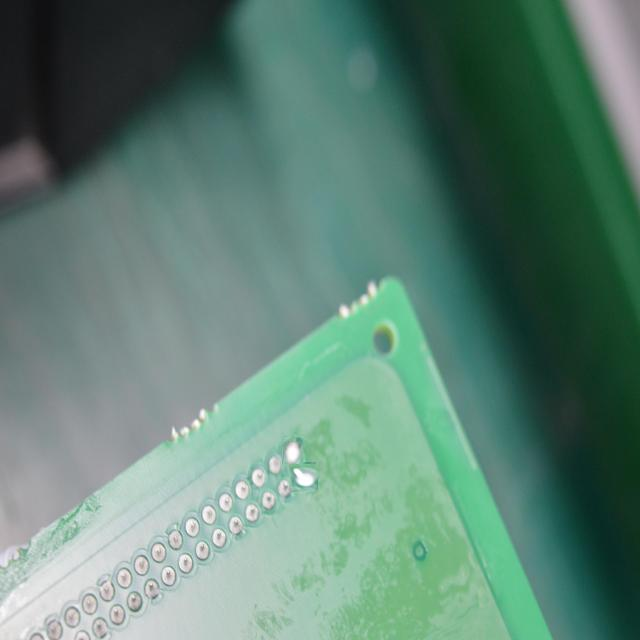slug: (289, 464, 317, 492), (282, 436, 303, 466)
